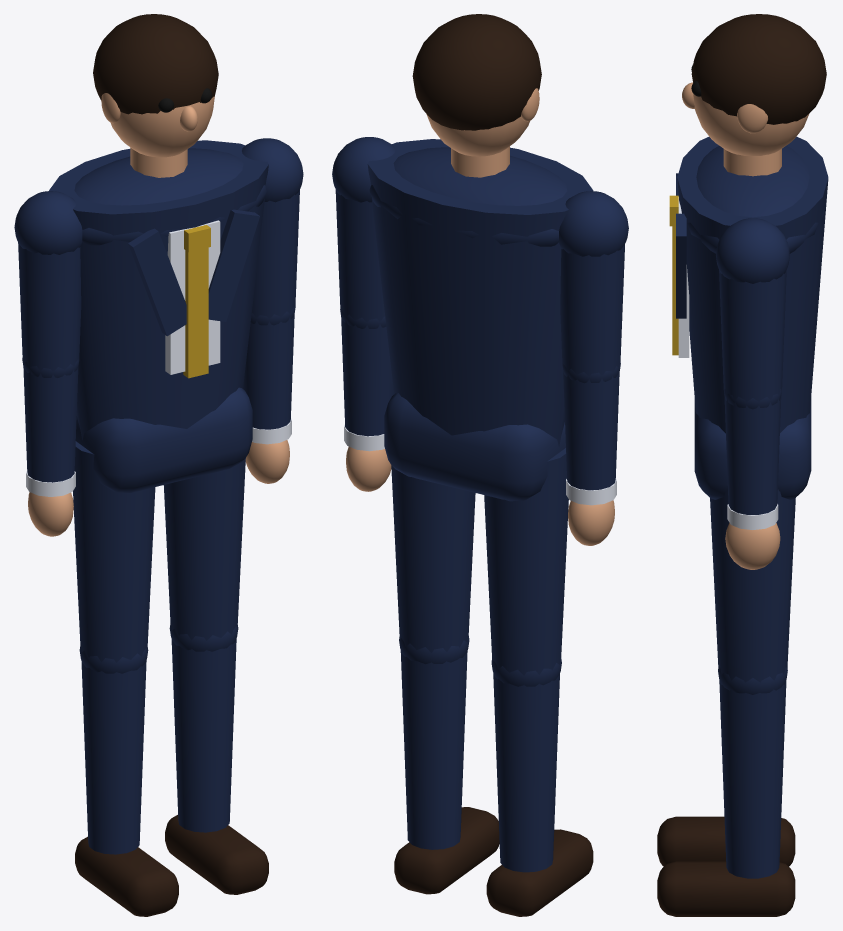
File: chico_formal.glb
3 views of the same model, side by side, from view 1: azimuth 30°, elevation 25°; view 2: azimuth 150°, elevation 25°; view 3: azimuth 270°, elevation 25° (orthographic). The views are drawn at different scales.
Parts seen in each view (by area): view 1: body, leg_L, leg_R, arm_L, arm_R; view 2: body, leg_L, leg_R, arm_L, arm_R; view 3: body, leg_R, arm_R, leg_L.
Boxes of the visible parts, x1,y1,x2,y2 form: body: (49, 14, 268, 492); leg_L: (73, 441, 178, 916); leg_R: (163, 458, 268, 894); arm_L: (14, 191, 82, 536); arm_R: (242, 138, 303, 483); body: (367, 14, 593, 501); leg_L: (484, 448, 593, 916); leg_R: (391, 465, 499, 894); arm_L: (559, 191, 628, 545); arm_R: (332, 137, 395, 491); body: (669, 14, 828, 499); leg_R: (657, 489, 795, 916); arm_R: (716, 218, 789, 569); leg_L: (657, 816, 795, 866).
Size of the model in its own units: 0.62 by 1.81 by 0.3226.
